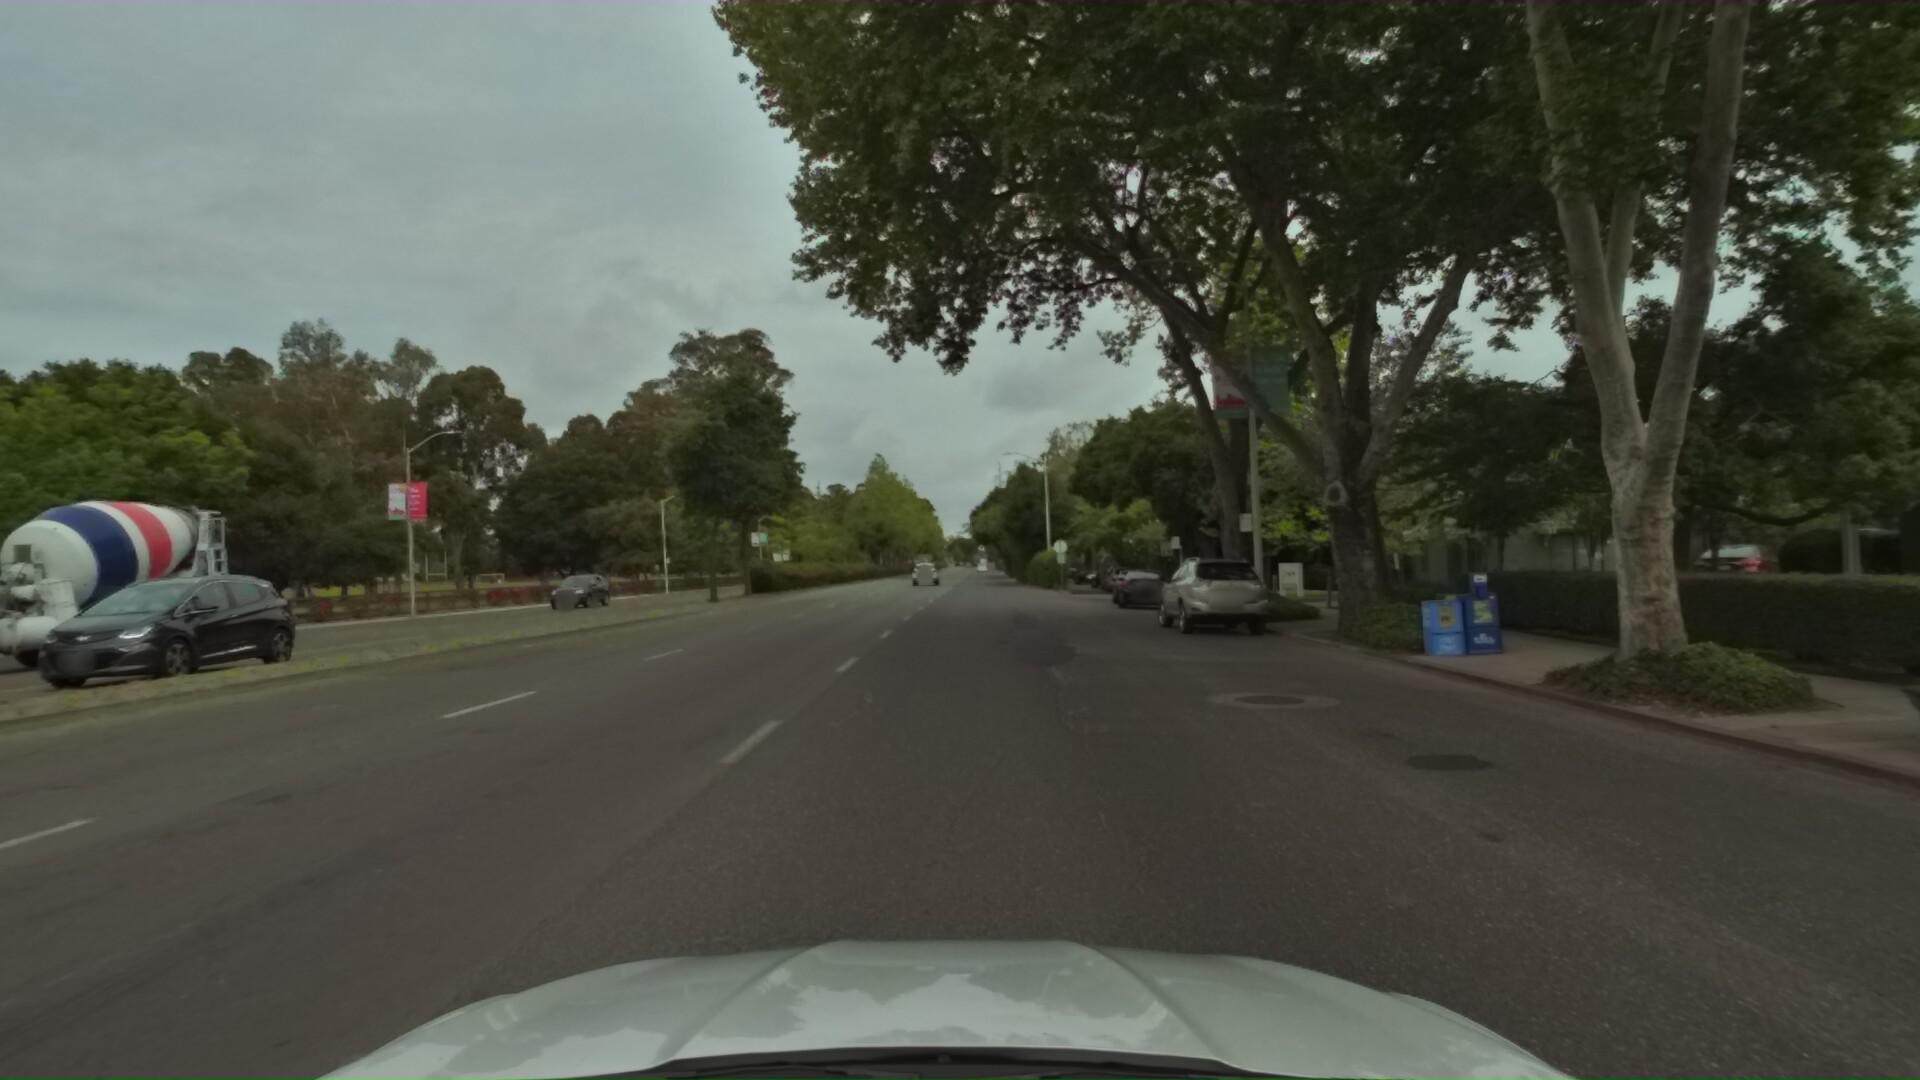car: (1149, 549, 1280, 644), (1116, 564, 1172, 613), (531, 572, 600, 611), (1110, 566, 1160, 607), (1100, 563, 1139, 593), (909, 560, 940, 587), (1087, 570, 1116, 591)
